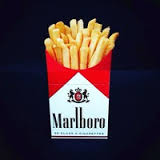marlboro: (50, 64, 107, 138)
